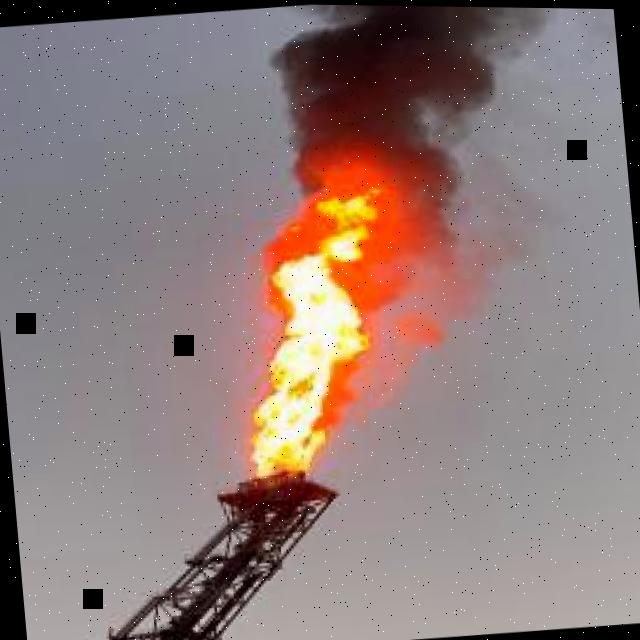fire: (248, 114, 464, 476)
smoke: (269, 4, 616, 304)
